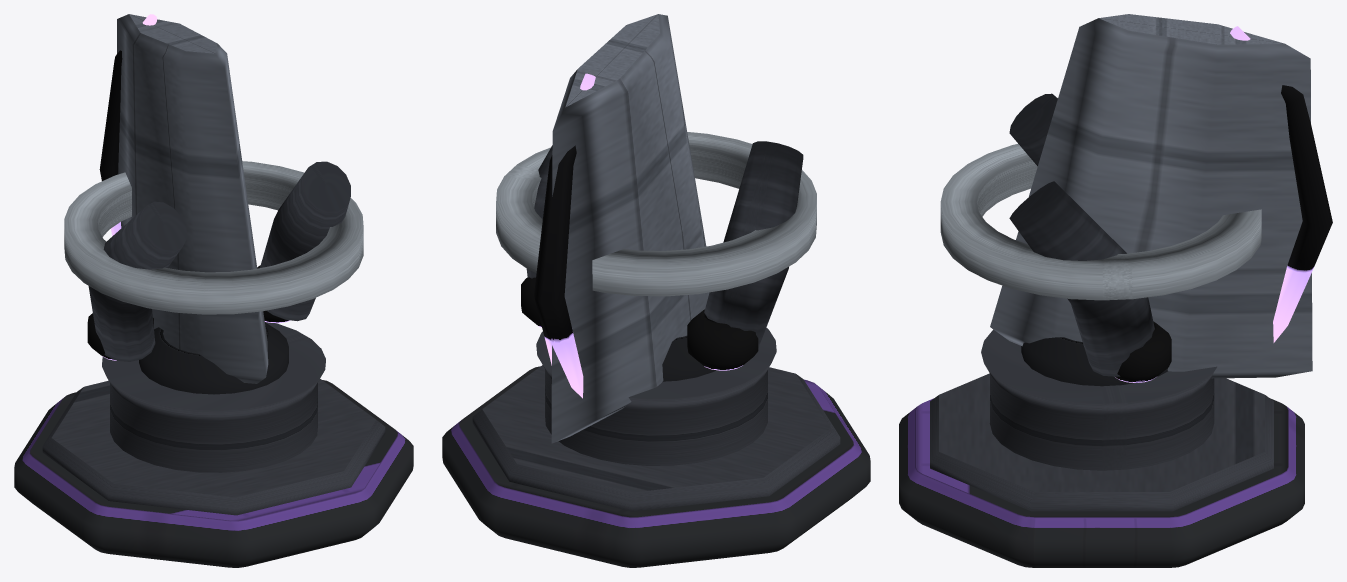
Rendered from focus.glb.
The picture shows the model from 3 angles, left to right: view 1: azimuth 30°, elevation 25°; view 2: azimuth 150°, elevation 25°; view 3: azimuth 270°, elevation 25°; orthographic projection. The views are drawn at different scales.
Parts seen in each view (by area): view 1: FocusHull; view 2: FocusHull; view 3: FocusHull.
Part boxes in pixels (x1,y1,x2,y2): FocusHull: (14,14,413,567); FocusHull: (442,14,870,567); FocusHull: (899,14,1332,567).
Size of the model in its own units: 0.3622 by 0.4637 by 0.387.
Materials: 1 (1 with a texture image).
